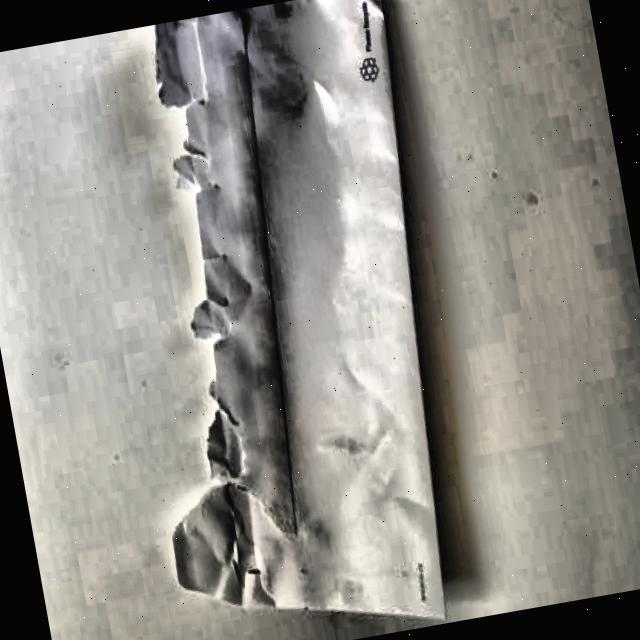paper: (99, 0, 480, 640)
